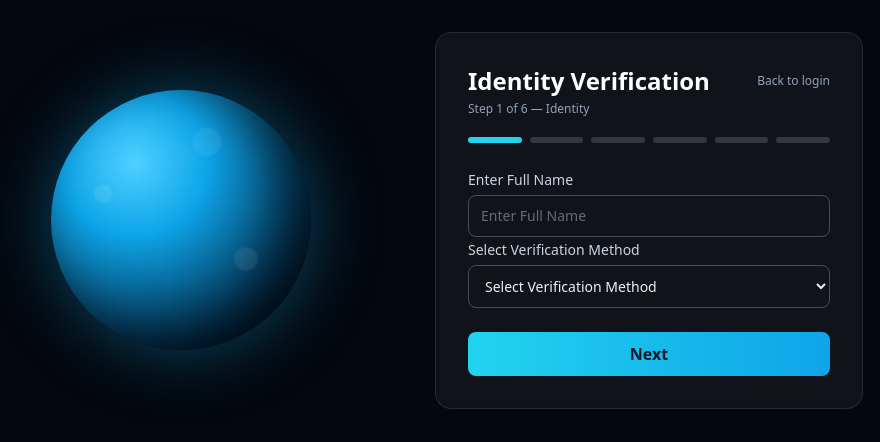
it: Register › filters digits and symbols out of the name field as they are typed
The width and height of the screenshot is (880, 442).
Type "Rahul123@Sharma" into the field with placeholder "Enter Full Name" at (649, 216), box 468,194 -> 830,236
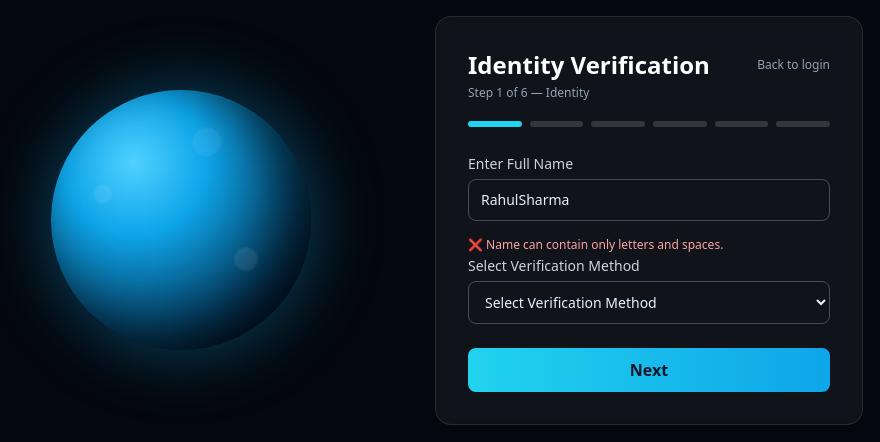
Now the field with placeholder "Enter Full Name" holds "RahulSharma", box 468,178 -> 830,220
